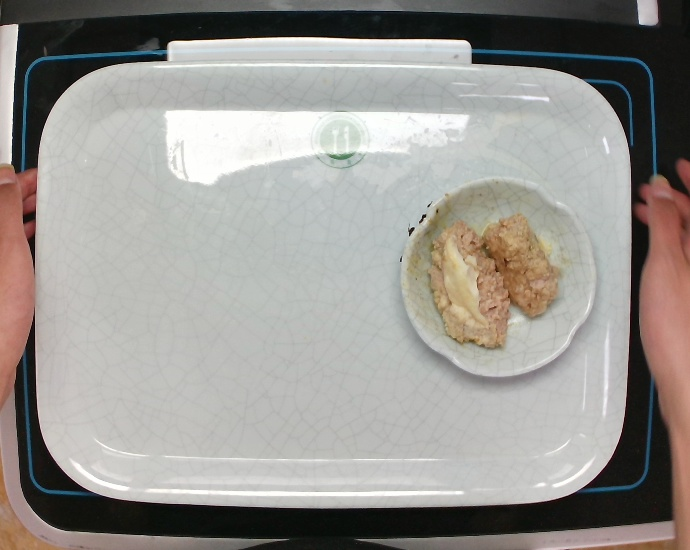JYsf-Ao_Yuan_Wan: (400, 176, 601, 381)
